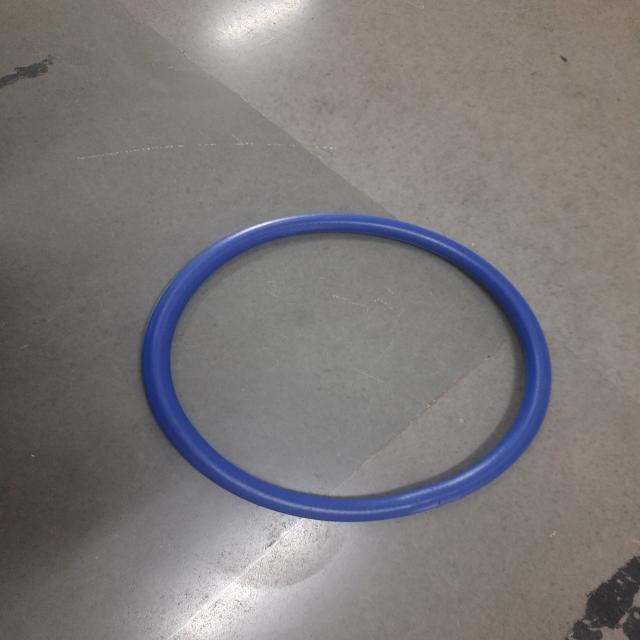daire: (147, 210, 558, 525)
